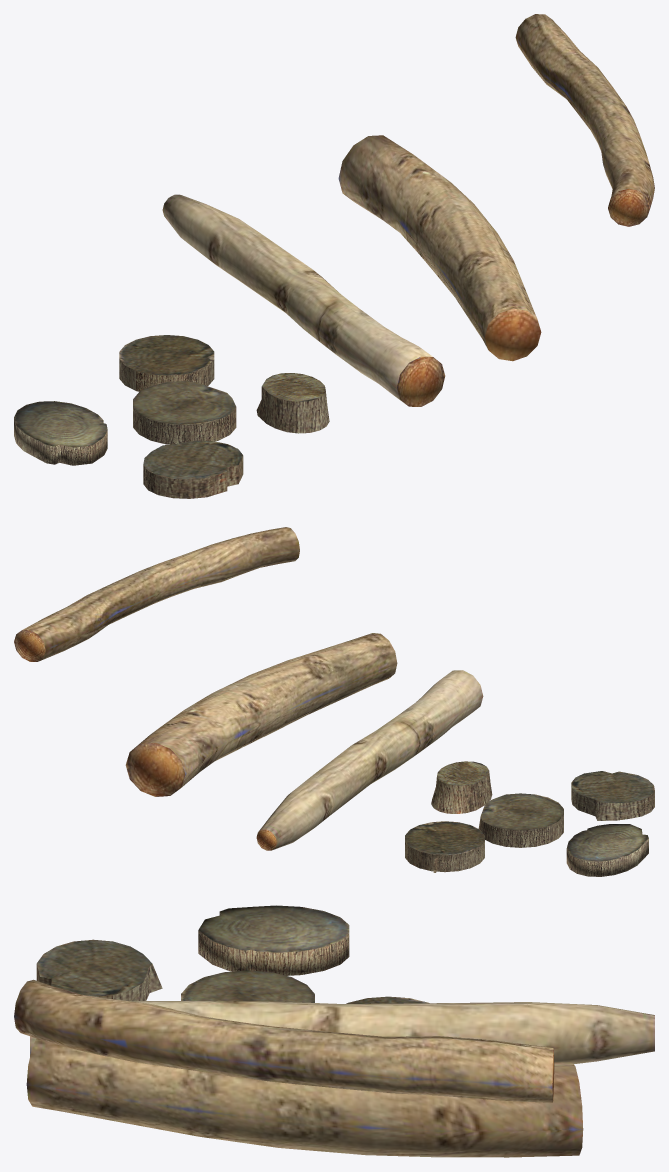
File: chuanniuxi.FBX
The picture shows the model from 3 angles, top to bottom: view 1: azimuth 30°, elevation 25°; view 2: azimuth 150°, elevation 25°; view 3: azimuth 270°, elevation 25°; orthographic projection. The views are drawn at different scales.
Visible parts, largest first — view 1: Cylinder007, Cylinder006, Cylinder008, Cylinder002, Cylinder001, Cylinder004, Cylinder005, Cylinder003; view 2: Cylinder007, Cylinder006, Cylinder008, Cylinder002, Cylinder001, Cylinder005, Cylinder004, Cylinder003; view 3: Cylinder007, Cylinder008, Cylinder006, Cylinder001, Cylinder004, Cylinder002, Cylinder005.
Part boxes in pixels (<box>): Cylinder007: <box>338,135,541,361</box>; Cylinder006: <box>162,194,445,406</box>; Cylinder008: <box>515,14,654,226</box>; Cylinder002: <box>133,381,236,444</box>; Cylinder001: <box>14,401,107,465</box>; Cylinder004: <box>143,440,243,498</box>; Cylinder005: <box>119,335,214,391</box>; Cylinder003: <box>256,373,329,433</box>; Cylinder007: <box>125,633,397,796</box>; Cylinder006: <box>256,670,483,850</box>; Cylinder008: <box>14,527,299,661</box>; Cylinder002: <box>478,793,563,847</box>; Cylinder001: <box>566,824,648,876</box>; Cylinder005: <box>405,821,484,872</box>; Cylinder004: <box>571,771,654,820</box>; Cylinder003: <box>431,761,492,813</box>; Cylinder007: <box>26,1038,583,1157</box>; Cylinder008: <box>14,979,554,1102</box>; Cylinder006: <box>30,1001,654,1064</box>; Cylinder001: <box>198,905,349,975</box>; Cylinder004: <box>36,939,162,1001</box>; Cylinder002: <box>181,970,314,1002</box>; Cylinder005: <box>346,996,429,1003</box>.
Size of the model in its own units: 56.46 by 17.9 by 37.81.
